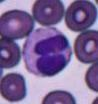N: (22, 28, 72, 76)
